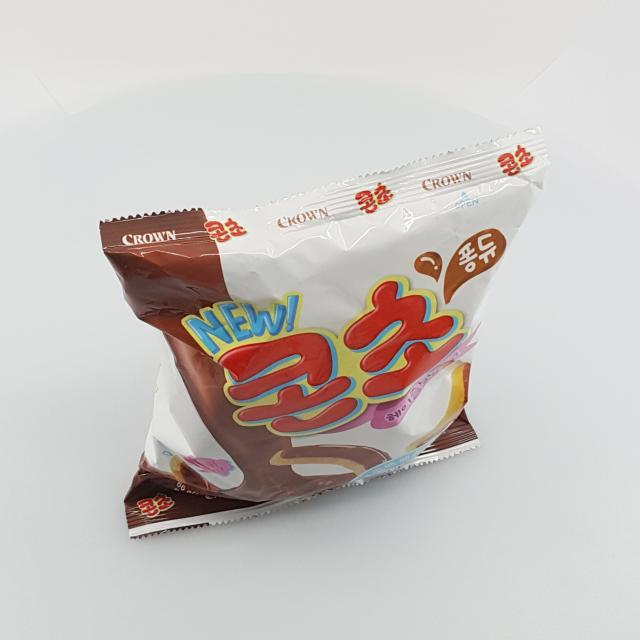-66G: (100, 126, 552, 542)
